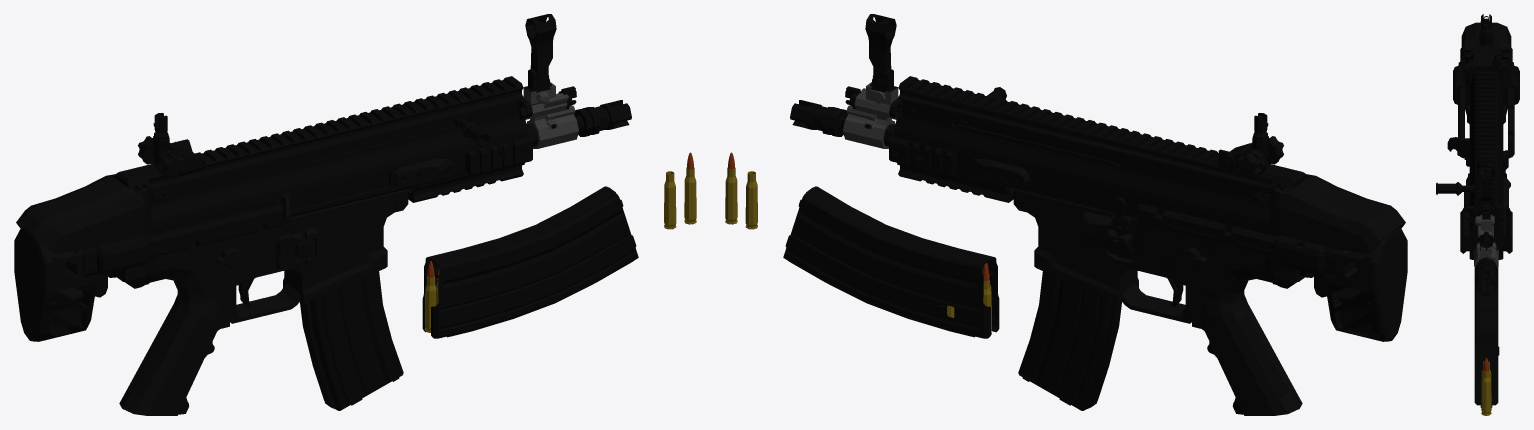
The model's file is scar sc.fbx.
3 renders of one model, left to right at view 1: azimuth 30°, elevation 25°; view 2: azimuth 150°, elevation 25°; view 3: azimuth 270°, elevation 25°, orthographic. The views are drawn at different scales.
Visible parts, largest first — view 1: meshes[17]-0, meshes[1]-0, meshes[9]-0, meshes[2]-0, scarsc pistol grip, meshes[14]-0, meshes[15]-1, meshes[15]-0, meshes[5]-0, meshes[4]-1, meshes[14]-1, meshes[12]-0 (+7 smaller); view 2: meshes[17]-0, meshes[1]-0, meshes[9]-0, meshes[2]-0, scarsc pistol grip, meshes[14]-0, meshes[15]-1, meshes[15]-0, meshes[4]-1, meshes[14]-1, scarsc front iron sight, meshes[12]-0 (+7 smaller); view 3: meshes[17]-0, meshes[1]-0, meshes[14]-0, meshes[12]-0, meshes[15]-0, meshes[14]-1, meshes[4]-1, scarsc flash hider, scarsc front iron sight, meshes[17]-1, meshes[4]-0, meshes[0]-0 (+5 smaller).
Boxes of the visible parts, x1,y1,x2,y2 form: meshes[17]-0: (112,76,532,284); meshes[1]-0: (422,186,638,338); meshes[9]-0: (149,189,408,323); meshes[2]-0: (300,271,403,410); scarsc pistol grip: (119,288,229,415); meshes[14]-0: (16,174,147,288); meshes[15]-1: (14,227,97,341); meshes[15]-0: (83,203,283,276); meshes[5]-0: (289,113,490,210); meshes[4]-1: (523,82,578,148); meshes[14]-1: (95,235,147,297); meshes[12]-0: (141,113,202,176); meshes[17]-0: (889,76,1309,284); meshes[1]-0: (783,186,999,338); meshes[9]-0: (1013,189,1272,323); meshes[2]-0: (1018,271,1121,410); scarsc pistol grip: (1192,288,1302,415); meshes[14]-0: (1274,174,1405,288); meshes[15]-1: (1324,228,1407,341); meshes[15]-0: (1138,203,1338,276); meshes[4]-1: (843,82,898,148); meshes[14]-1: (1274,235,1326,297); scarsc front iron sight: (865,14,896,87); meshes[12]-0: (1218,113,1280,174); meshes[17]-0: (1460,42,1512,259); meshes[1]-0: (1474,293,1499,407); meshes[14]-0: (1461,22,1511,123); meshes[12]-0: (1473,14,1501,74); meshes[15]-0: (1458,61,1514,158); meshes[14]-1: (1453,65,1519,105); meshes[4]-1: (1474,213,1498,267); scarsc flash hider: (1474,258,1498,296); scarsc front iron sight: (1477,156,1495,214); meshes[17]-1: (1447,137,1508,212); meshes[4]-0: (1475,204,1497,280); meshes[0]-0: (1481,370,1491,415).
Size of the model in its own units: 5.8 by 2.8 by 0.7778.
